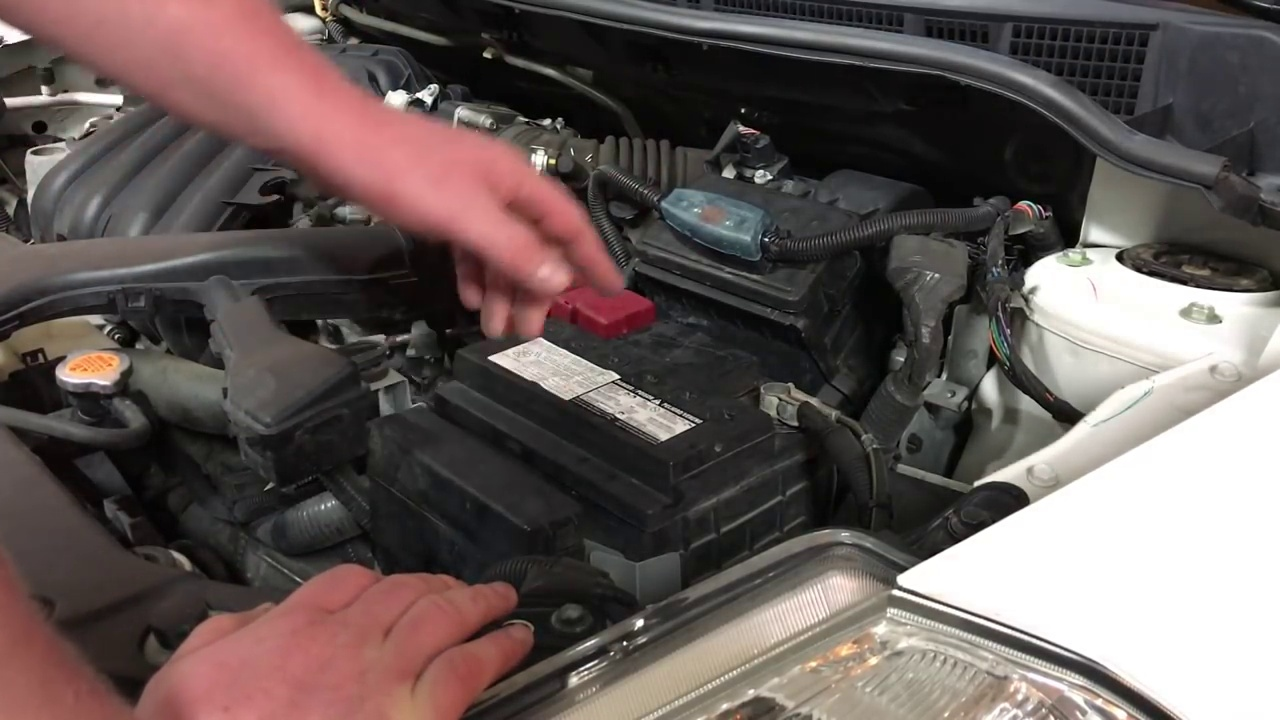battery: (450, 265, 813, 469)
neg_connected: (743, 359, 837, 452)
pos_touched: (480, 197, 669, 357)
